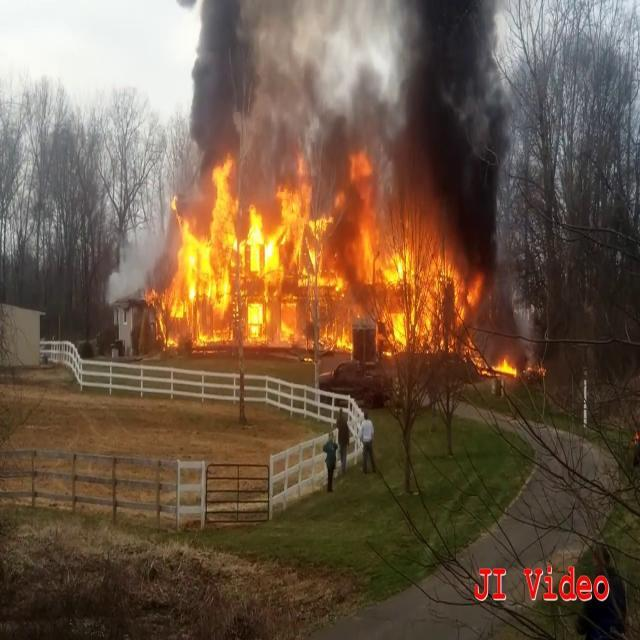Fire: (150, 155, 482, 358), (489, 349, 522, 386)
Smoke: (162, 0, 527, 244), (361, 0, 527, 255), (166, 0, 360, 189)
